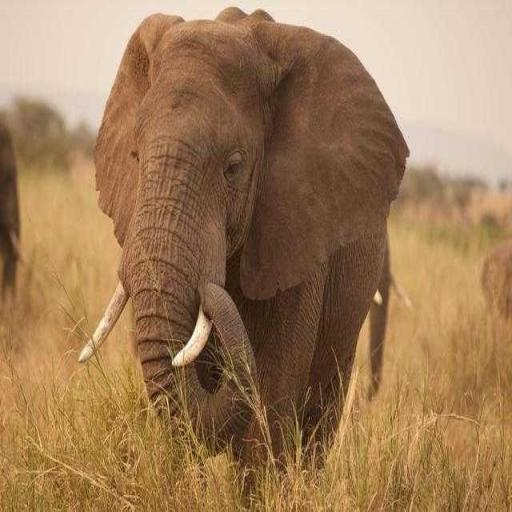Elephant: (77, 4, 411, 494), (0, 118, 22, 303)
